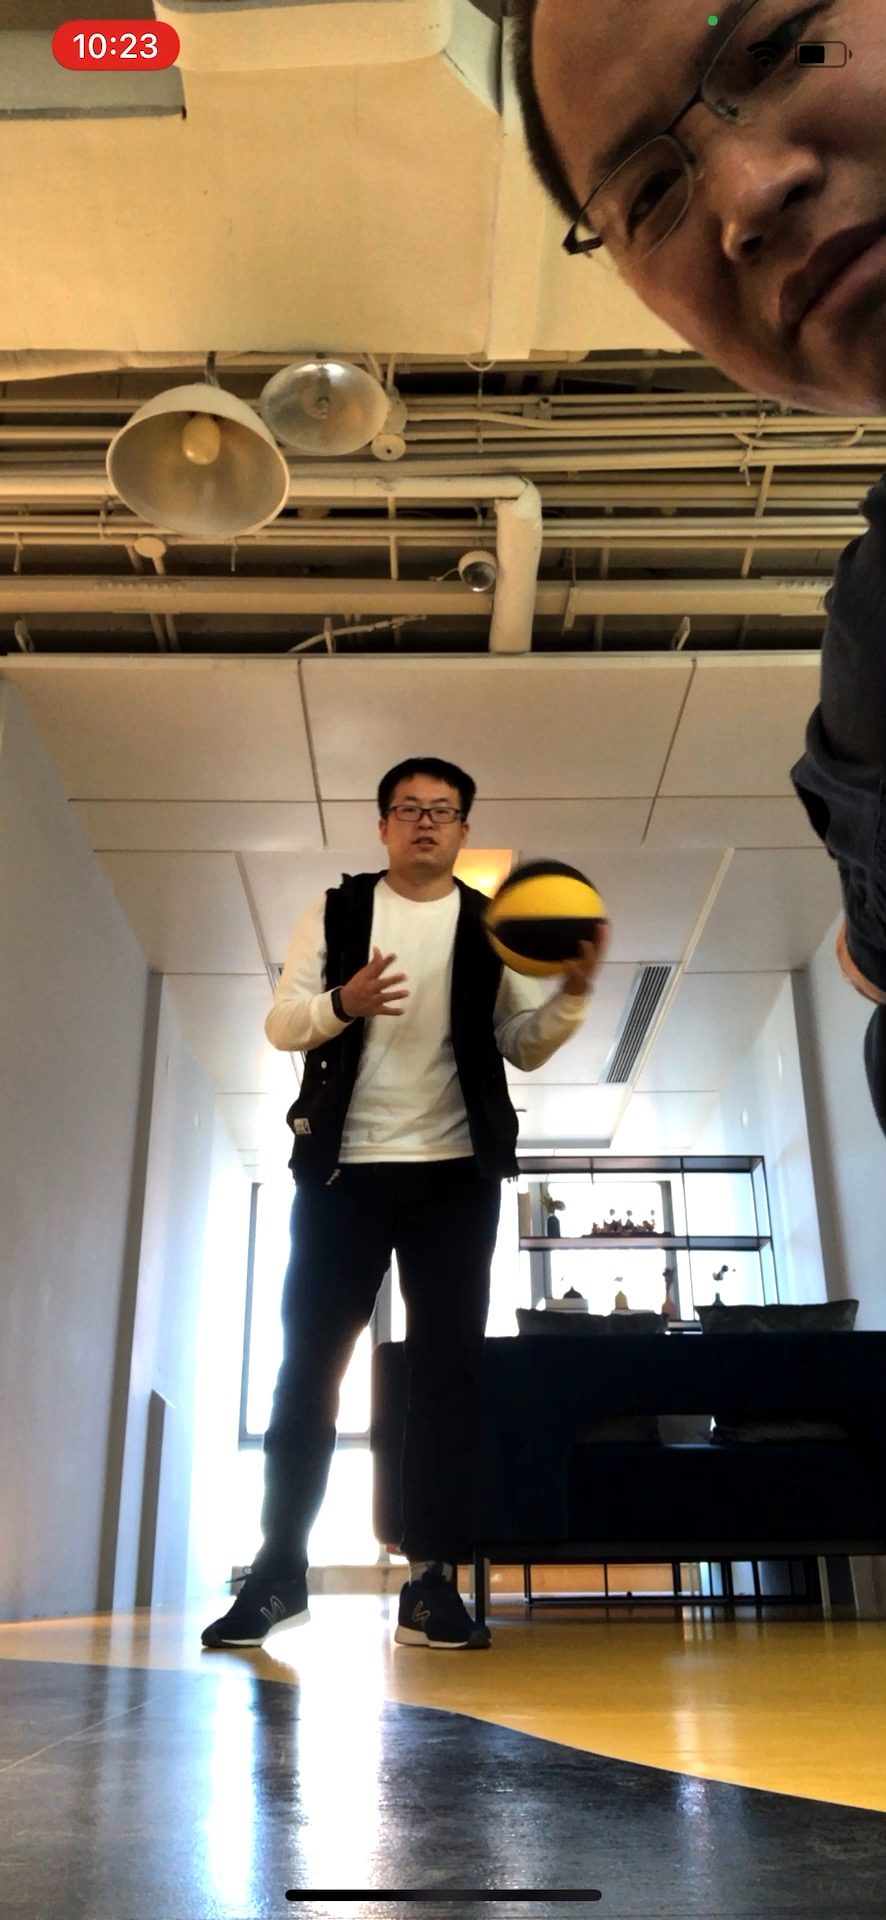ball: (486, 857, 606, 976)
